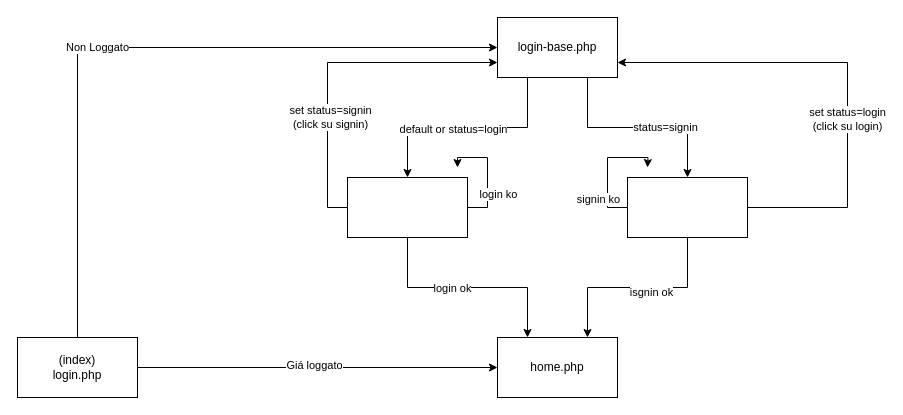
The diagram is 903 pixels wide and 415 high, and some of its shapes have lost their labels. Each missing label, with the centre of its shape:
"login-form.php" belongs at point (407, 207).
"sigin-form.php" belongs at point (687, 207).
